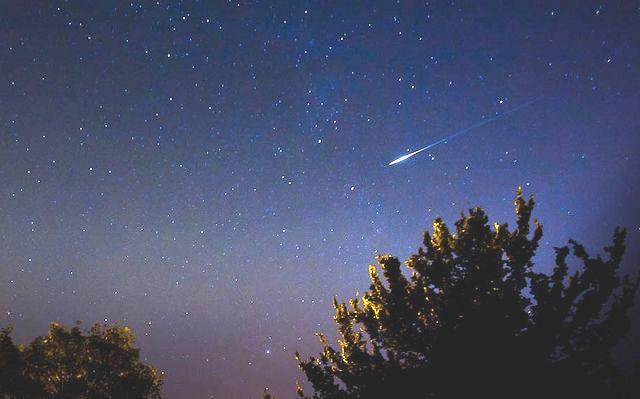meteorite: (381, 109, 509, 172)
